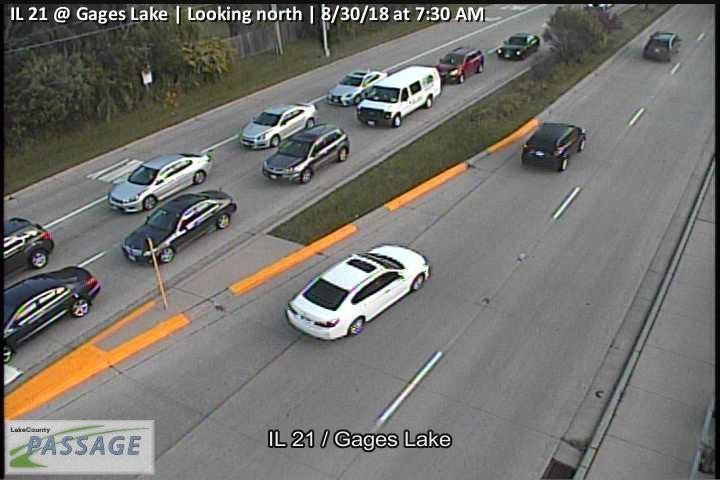SUV: (261, 123, 350, 185), (356, 64, 441, 128), (522, 122, 587, 173), (436, 46, 485, 84), (643, 31, 682, 62)
Sedan: (286, 244, 429, 342), (2, 266, 101, 363), (120, 189, 236, 264), (107, 152, 213, 216), (239, 102, 317, 152), (326, 68, 388, 107), (495, 32, 541, 61)
